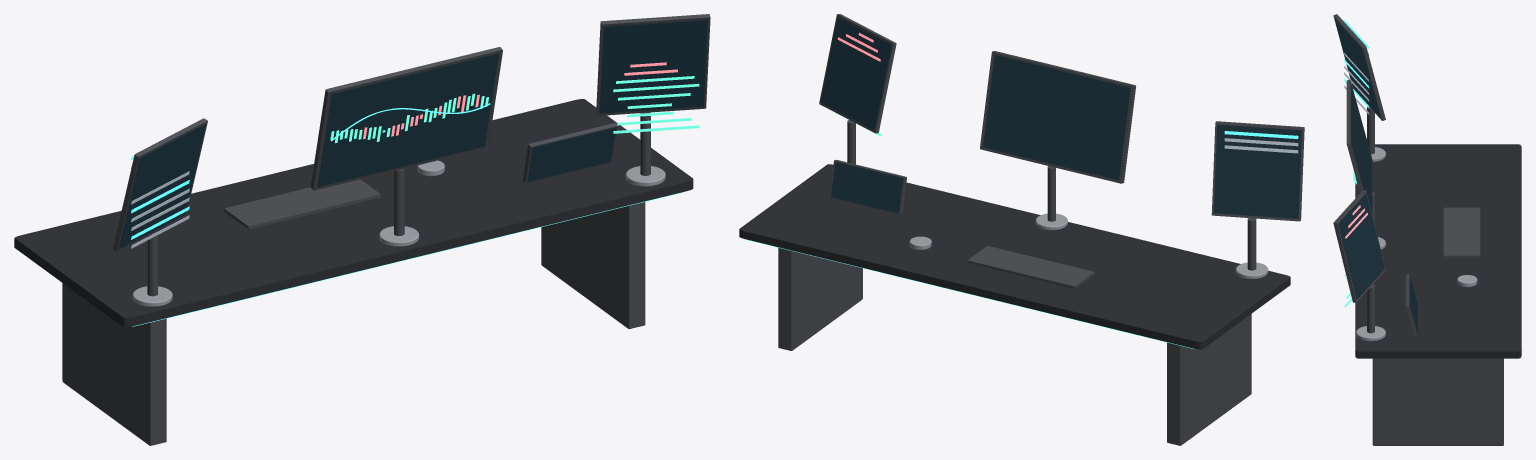
File: trading_cockpit.glb
The picture shows the model from 3 angles, left to right: view 1: azimuth 30°, elevation 25°; view 2: azimuth 150°, elevation 25°; view 3: azimuth 270°, elevation 25°; orthographic projection. The views are drawn at different scales.
Parts seen in each view (by area): view 1: DeskTop, Main_Screen, DeskLeg_L, DeskLeg_R, DepthR_Screen, WatchL_Screen, Keyboard, OrderPad_Screen, Main_Bezel, DepthR_Bezel, WatchL_Bezel, OrderPad_Bezel (+1 smaller); view 2: DeskTop, Main_Screen, DeskLeg_L, WatchL_Screen, DeskLeg_R, DepthR_Screen, OrderPad_Screen, Keyboard, Main_Bezel, WatchL_Bezel, DepthR_Bezel; view 3: DeskTop, DeskLeg_R, DepthR_Screen, Keyboard, Main_Screen, WatchL_Screen, DepthR_Bezel, WatchL_Bezel, Main_Bezel, Arm_DepthR, ArmFoot_DepthR, Arm_WatchL (+3 smaller).
Boxes of the visible parts, bbox=[...] form: DeskTop: bbox=[14, 99, 693, 327]; Main_Screen: bbox=[317, 53, 498, 187]; DeskLeg_L: bbox=[62, 283, 166, 445]; DeskLeg_R: bbox=[541, 202, 645, 328]; DepthR_Screen: bbox=[599, 20, 707, 113]; WatchL_Screen: bbox=[119, 124, 205, 248]; Keyboard: bbox=[224, 179, 380, 229]; OrderPad_Screen: bbox=[527, 127, 616, 182]; Main_Bezel: bbox=[310, 47, 502, 190]; DepthR_Bezel: bbox=[596, 14, 710, 115]; WatchL_Bezel: bbox=[112, 118, 207, 252]; OrderPad_Bezel: bbox=[522, 123, 618, 182]; DeskTop: bbox=[739, 164, 1290, 349]; Main_Screen: bbox=[983, 55, 1130, 180]; DeskLeg_L: bbox=[1167, 314, 1251, 445]; WatchL_Screen: bbox=[1213, 124, 1301, 218]; DeskLeg_R: bbox=[778, 247, 862, 350]; DepthR_Screen: bbox=[820, 17, 891, 130]; OrderPad_Screen: bbox=[831, 161, 903, 213]; Keyboard: bbox=[967, 245, 1094, 288]; Main_Bezel: bbox=[980, 51, 1136, 183]; WatchL_Bezel: bbox=[1211, 121, 1304, 221]; DepthR_Bezel: bbox=[819, 14, 896, 133]; DeskTop: bbox=[1355, 144, 1521, 358]; DeskLeg_R: bbox=[1372, 358, 1503, 445]; DepthR_Screen: bbox=[1338, 193, 1384, 299]; Keyboard: bbox=[1443, 207, 1480, 258]; Main_Screen: bbox=[1351, 83, 1372, 213]; WatchL_Screen: bbox=[1334, 18, 1381, 118]; DepthR_Bezel: bbox=[1333, 190, 1385, 302]; WatchL_Bezel: bbox=[1333, 14, 1385, 120]; Main_Bezel: bbox=[1346, 80, 1372, 214]; Arm_DepthR: bbox=[1367, 285, 1374, 333]; ArmFoot_DepthR: bbox=[1356, 326, 1385, 341]; Arm_WatchL: bbox=[1367, 107, 1374, 154].
Bounding box in the file's own units: 5.82 × 3.09 × 2.15.
